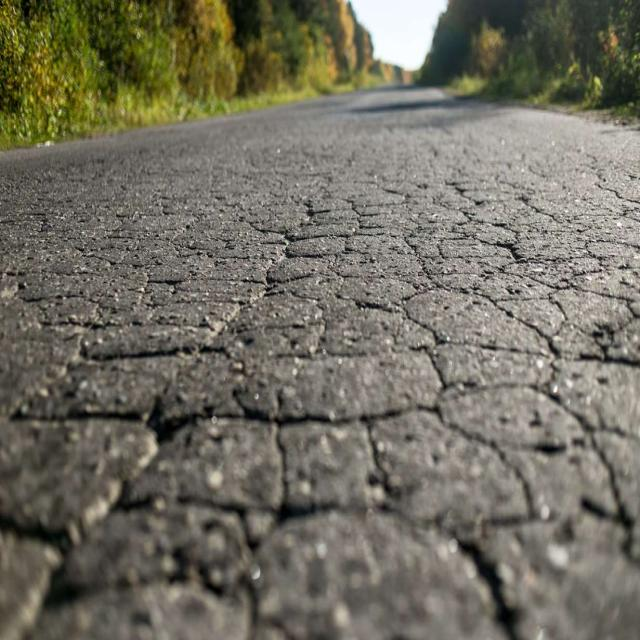Drain Hole: (100, 253, 640, 640)
